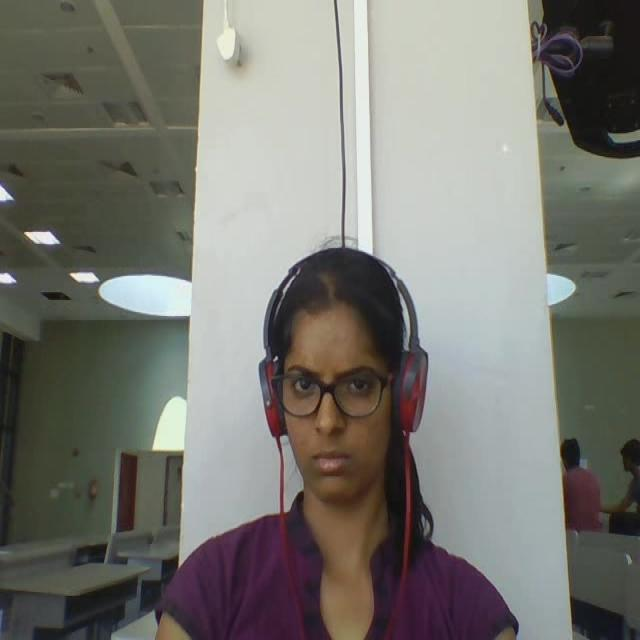Engaged: (240, 226, 433, 562)
